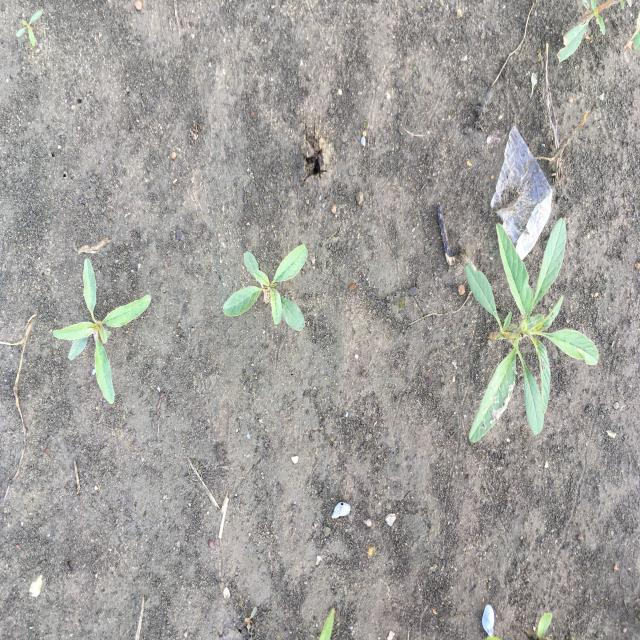Waterhemp: (464, 217, 600, 444), (51, 257, 152, 406), (222, 242, 310, 332)
